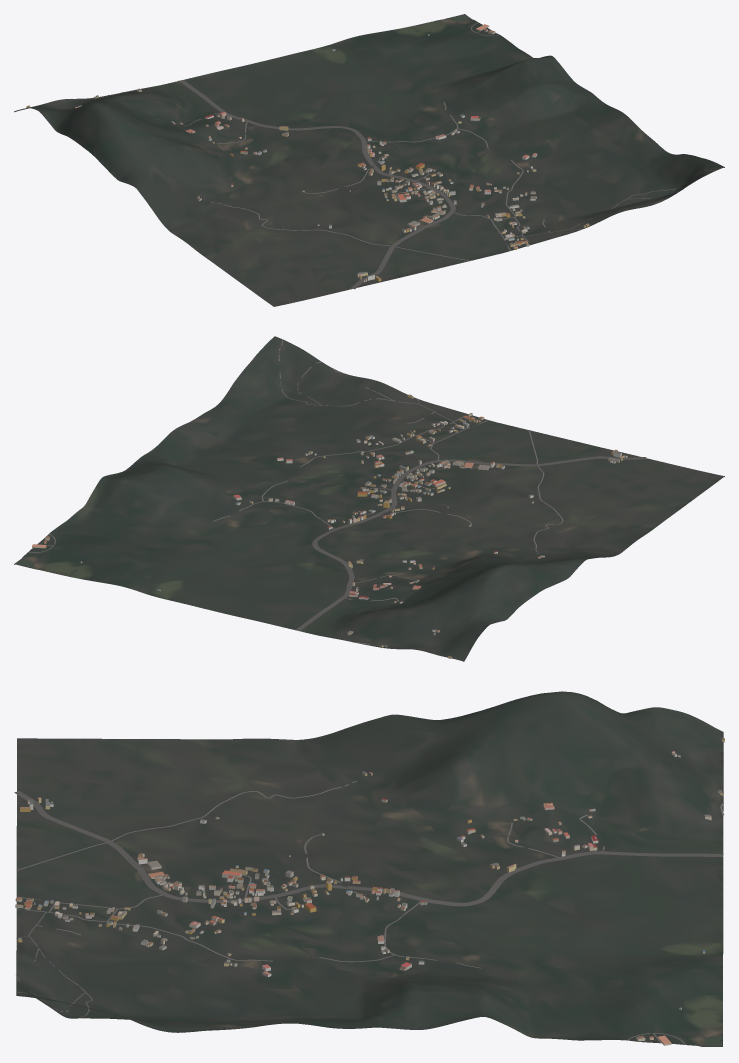
The picture shows the model from 3 angles, top to bottom: view 1: azimuth 30°, elevation 25°; view 2: azimuth 150°, elevation 25°; view 3: azimuth 270°, elevation 25°; orthographic projection. The views are drawn at different scales.
Parts seen in each view (by area): view 1: ground, buildings, roads; view 2: ground, buildings, roads; view 3: ground, buildings, roads.
Boxes of the visible parts, x1,y1,x2,y2 form: ground: [14, 14, 724, 306]; buildings: [26, 24, 589, 282]; roads: [108, 22, 716, 289]; ground: [14, 336, 724, 661]; buildings: [32, 394, 627, 658]; roads: [28, 339, 646, 645]; ground: [16, 691, 723, 1046]; buildings: [15, 738, 724, 1045]; roads: [14, 780, 723, 1044].
Bounding box in the file's own units: 1411 × 164 × 1410.
